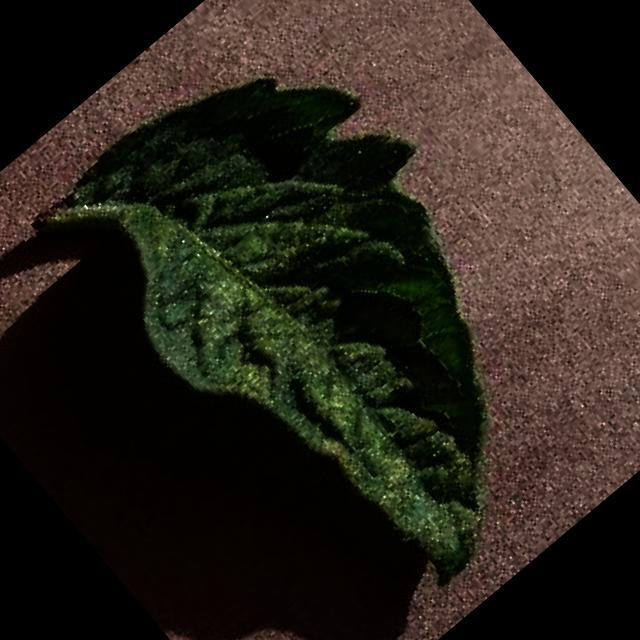Tomato spider mites leaf: (35, 1, 639, 632)
